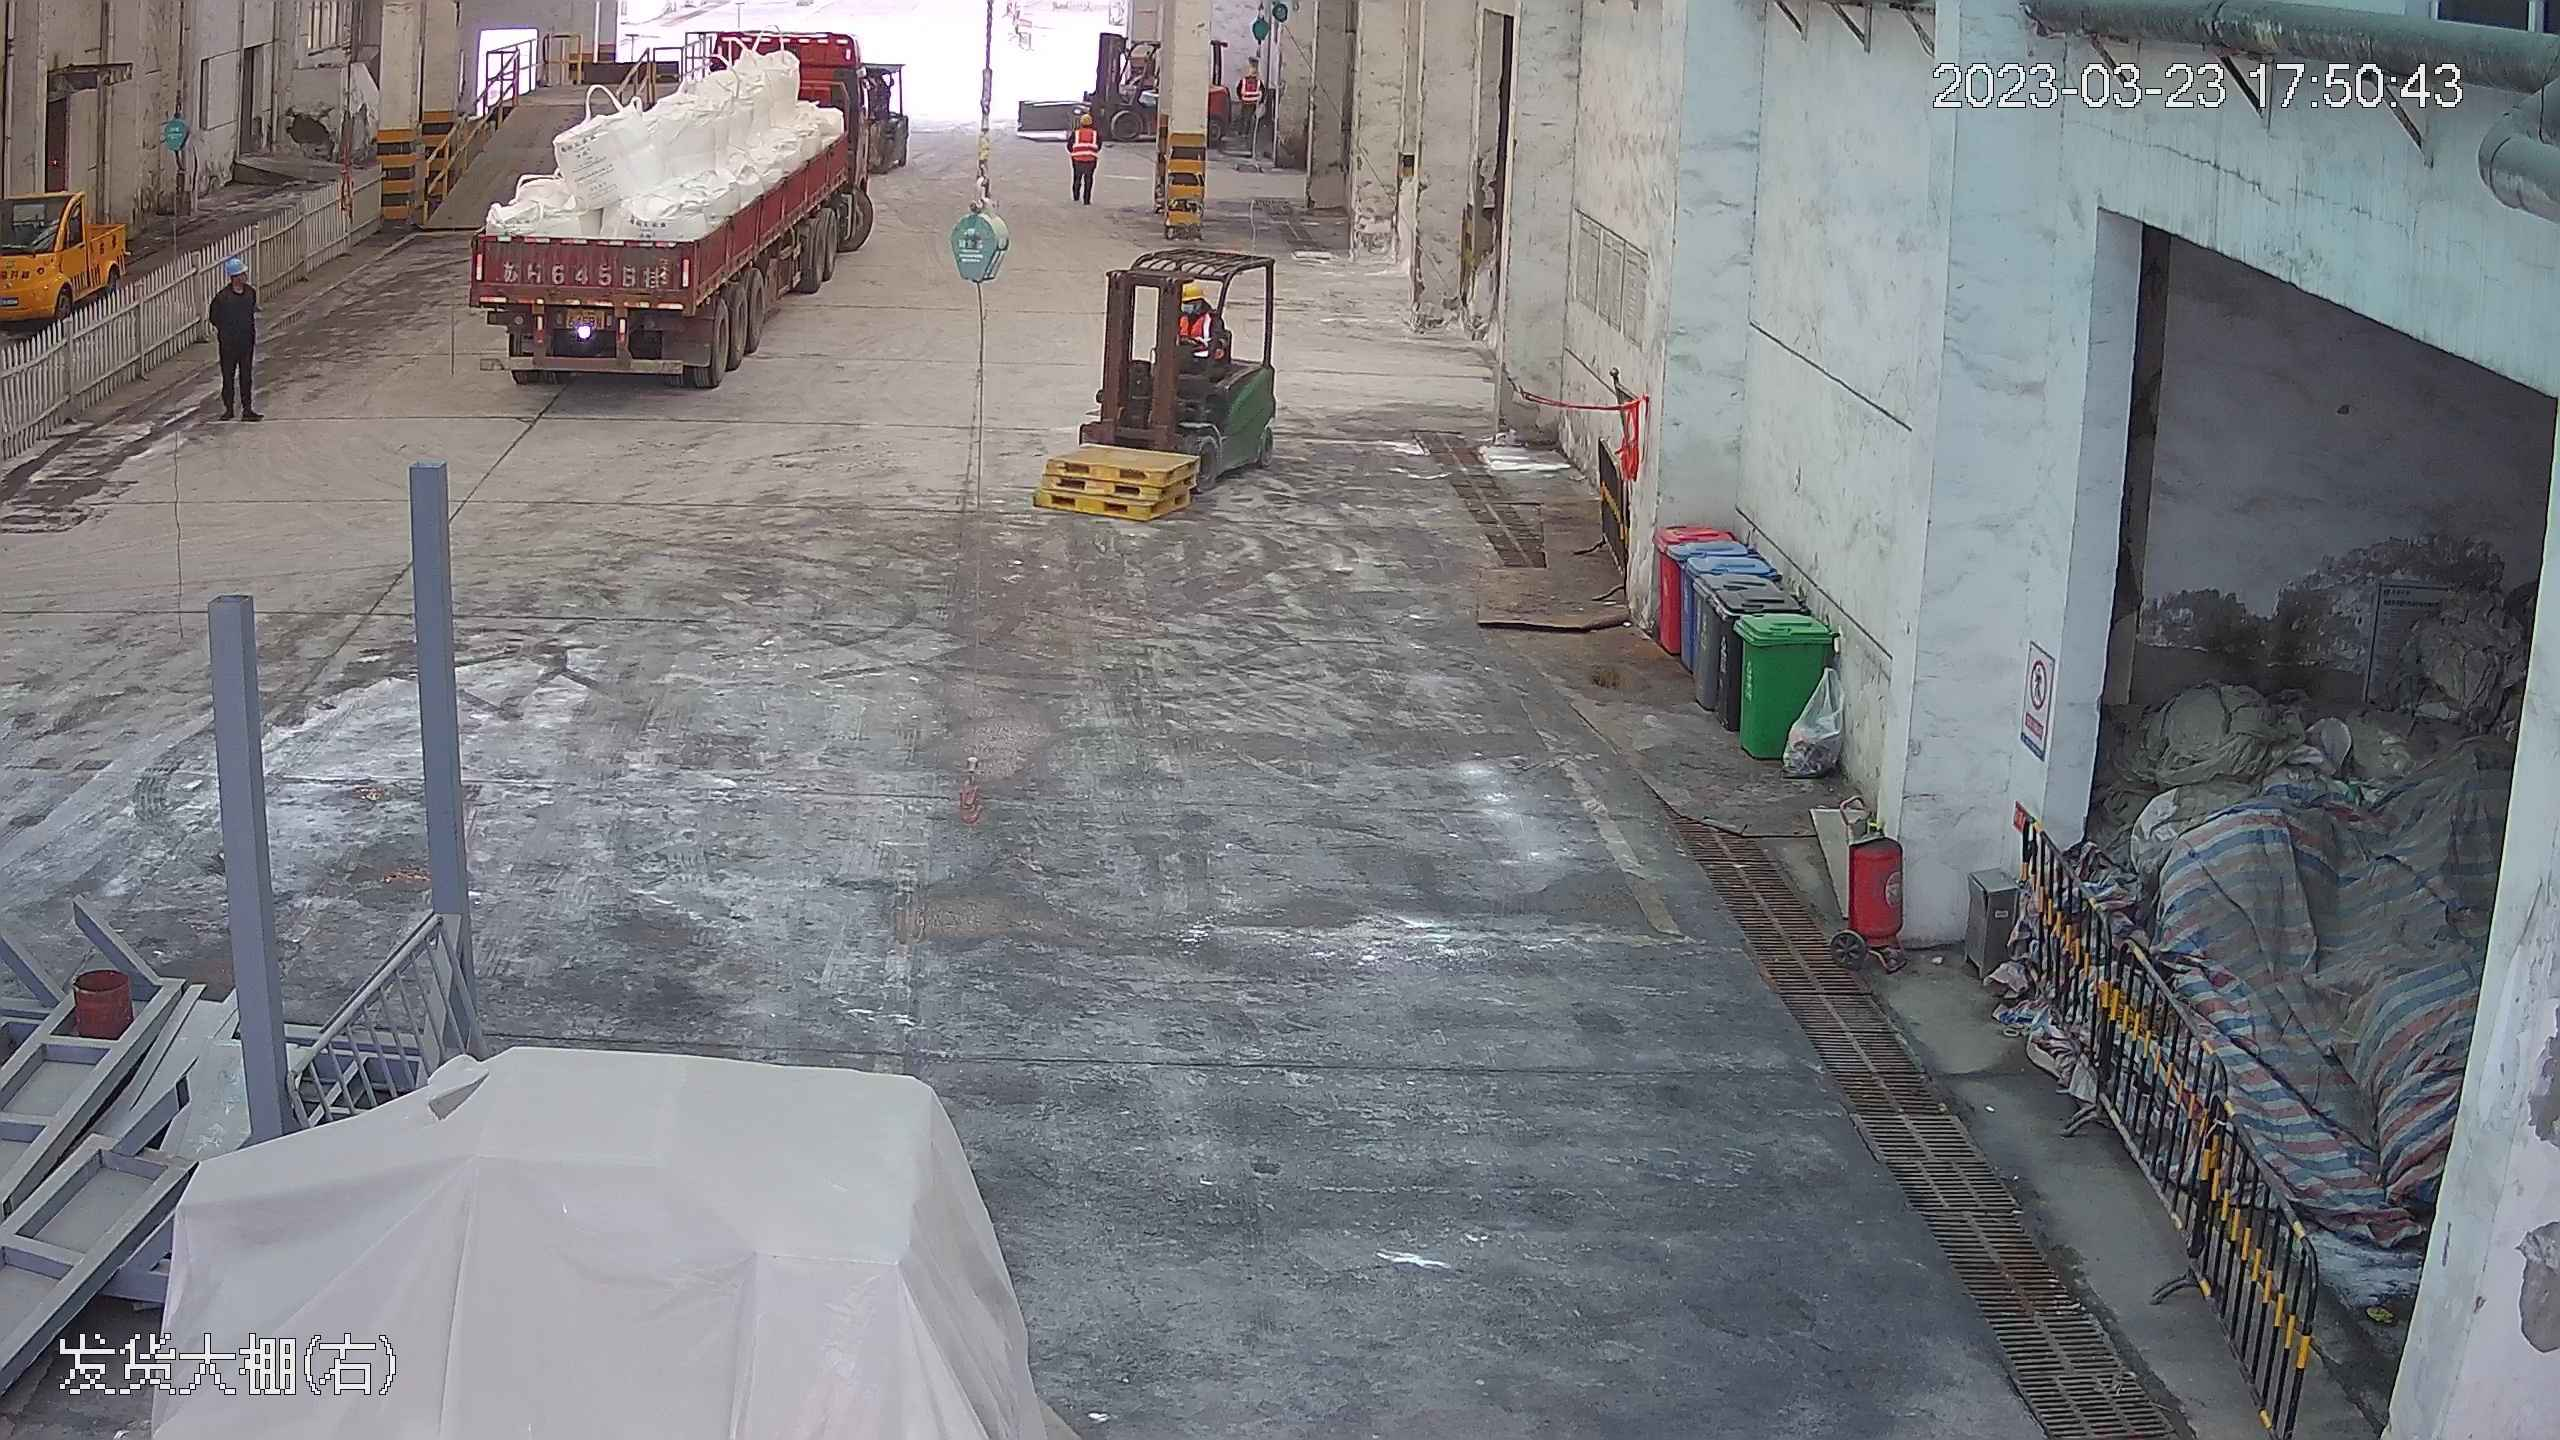head: (1170, 283, 1224, 343), (210, 253, 256, 309), (1070, 109, 1101, 145)
helmet: (1180, 281, 1208, 304), (223, 250, 247, 272), (1079, 113, 1092, 126)
people: (206, 251, 262, 422), (1064, 107, 1104, 206), (1237, 66, 1263, 133)
truck: (454, 16, 897, 393)
